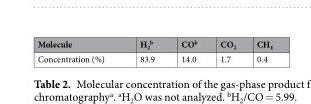table: (36, 37, 272, 64)
table column: (36, 37, 121, 64), (121, 37, 167, 64), (167, 37, 208, 64), (208, 37, 245, 64), (245, 37, 272, 64)
table column header: (36, 37, 272, 51)
table row: (36, 37, 272, 51), (36, 51, 272, 64)
